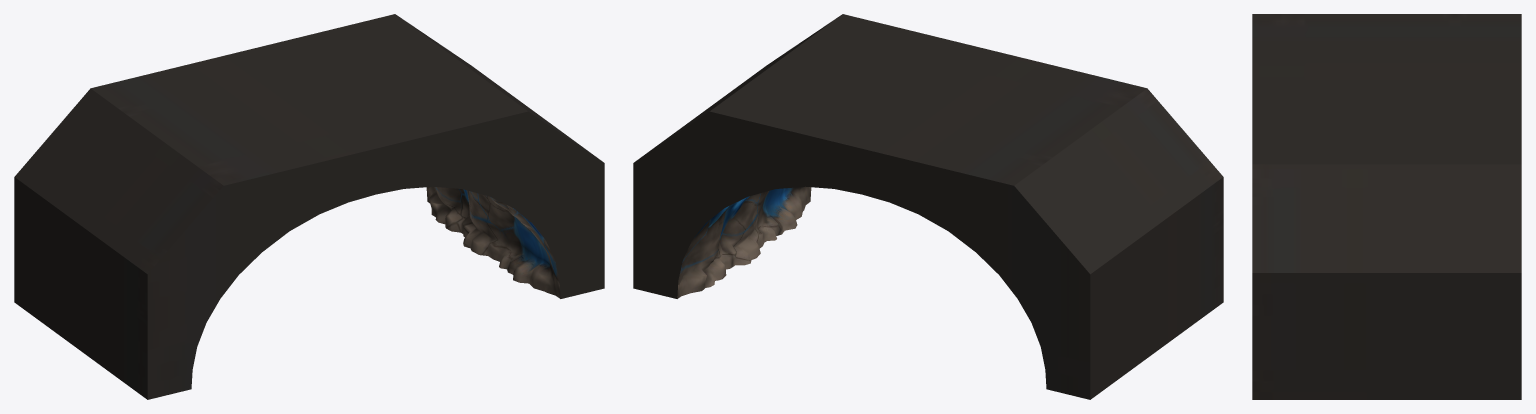
Rendered from SM_IceCave_Segment_C.glb.
The picture shows the model from 3 angles, left to right: view 1: azimuth 30°, elevation 25°; view 2: azimuth 150°, elevation 25°; view 3: azimuth 270°, elevation 25°; orthographic projection.
Parts seen in each view (by area): view 1: SM_IceCave_Segment_C; view 2: SM_IceCave_Segment_C; view 3: SM_IceCave_Segment_C.
Boxes of the visible parts, <box> form: SM_IceCave_Segment_C: <box>14,14,604,399</box>; SM_IceCave_Segment_C: <box>633,14,1223,399</box>; SM_IceCave_Segment_C: <box>1252,14,1521,399</box>.
Size of the model in its own units: 19.8 by 8.1 by 10.
Materials: 1 (1 with a texture image).
